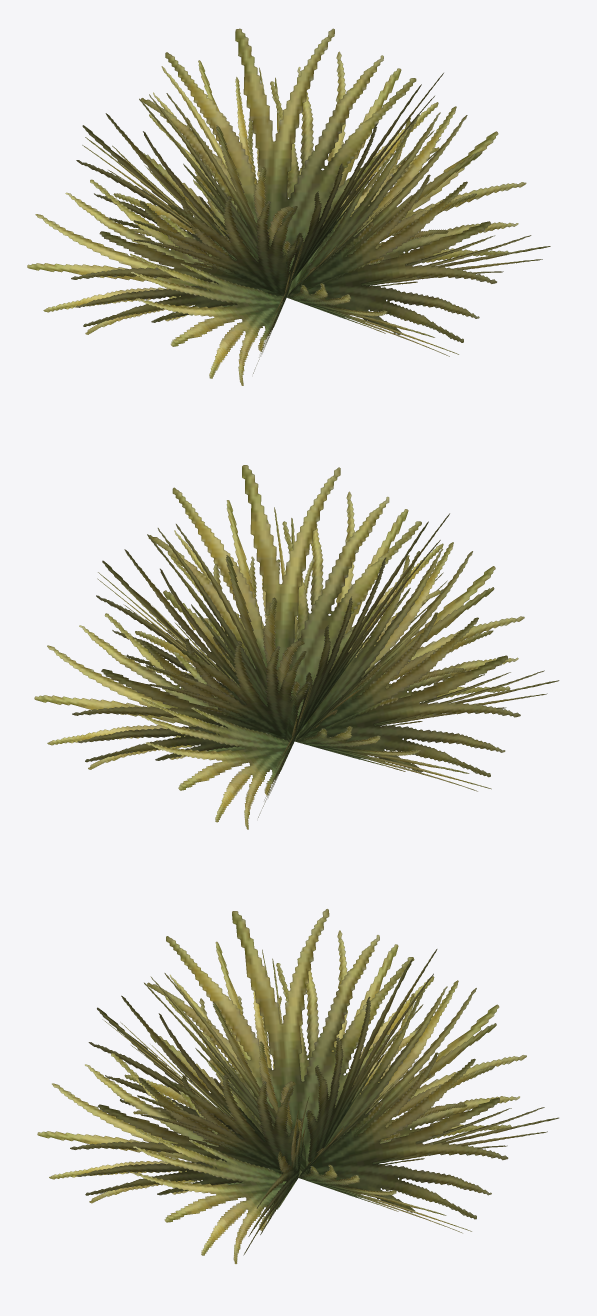
The model's file is C1SNGRSC.obj.
The picture shows the model from 3 angles, top to bottom: view 1: azimuth 30°, elevation 25°; view 2: azimuth 150°, elevation 25°; view 3: azimuth 270°, elevation 25°; orthographic projection.
Visible parts, largest first — view 1: Node 0; view 2: Node 0; view 3: Node 0.
Part boxes in pixels (x1,y1,x2,y2): Node 0: [27, 28, 550, 385]; Node 0: [34, 465, 559, 829]; Node 0: [37, 909, 558, 1263].
Size of the model in its own units: 0.67 by 0.28 by 0.64.
1 material, 1 textured.
